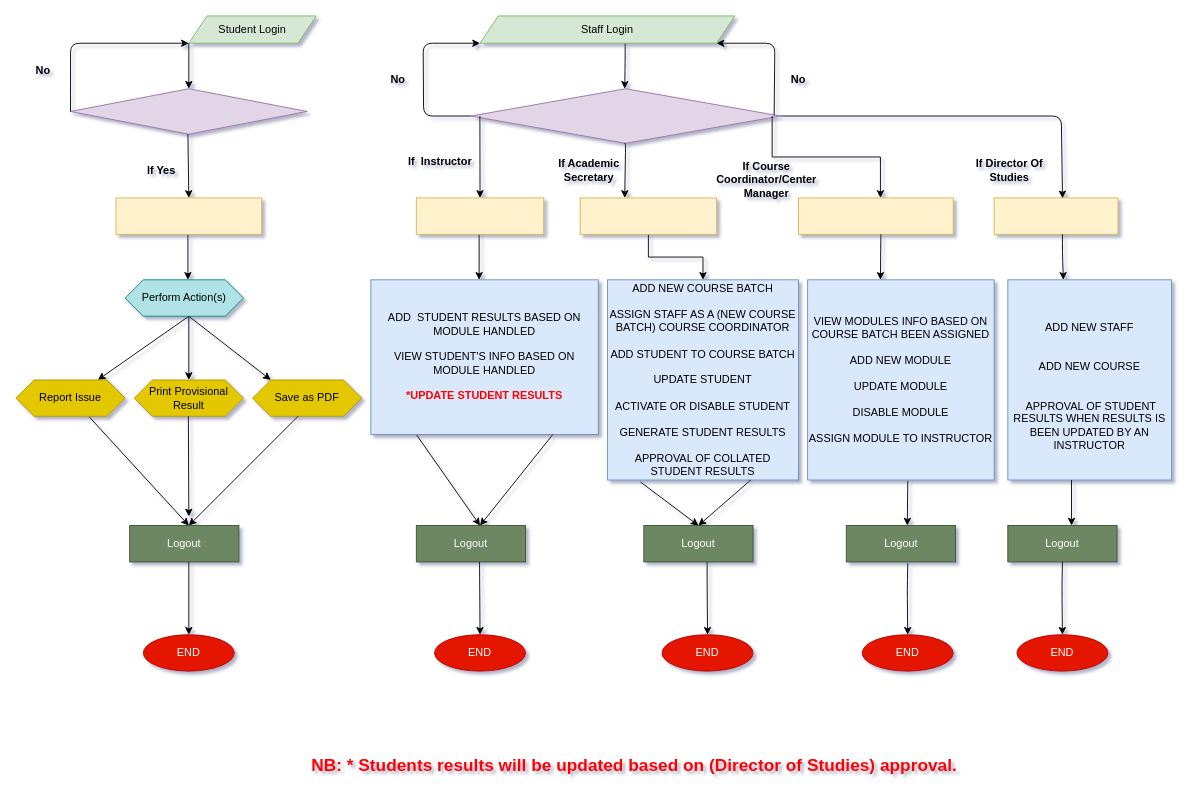
Image size: 1193x802. Some labels were removed from this diagram. The shapes that lost their labels are listed below. From the top down, each one's box as (x1, y1, x2, y2) in pixels, then its label:
(70, 88, 307, 134): Validate Student(If fees is fully paid)
(470, 88, 780, 143): Validate Staff
(115, 197, 262, 234): Access Module Results Currently Undertaken
(415, 197, 544, 234): Access Instructor Roles
(579, 197, 717, 234): Access Academic Secretary Roles
(798, 197, 953, 234): Access Course Coordinator/Center Manager Roles
(993, 197, 1118, 234): Access Director of Studies Roles
